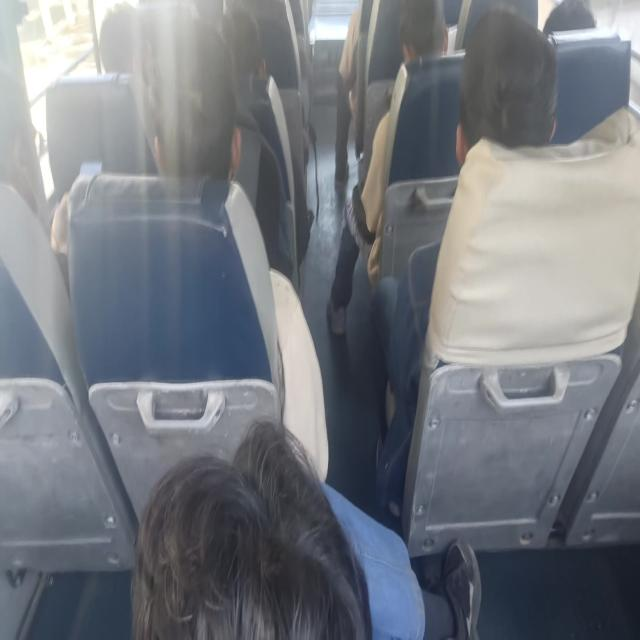person: (125, 447, 373, 640), (468, 21, 562, 148), (156, 78, 252, 179), (0, 110, 66, 222), (211, 18, 278, 109), (86, 11, 152, 72), (391, 8, 454, 61), (539, 0, 603, 40)
